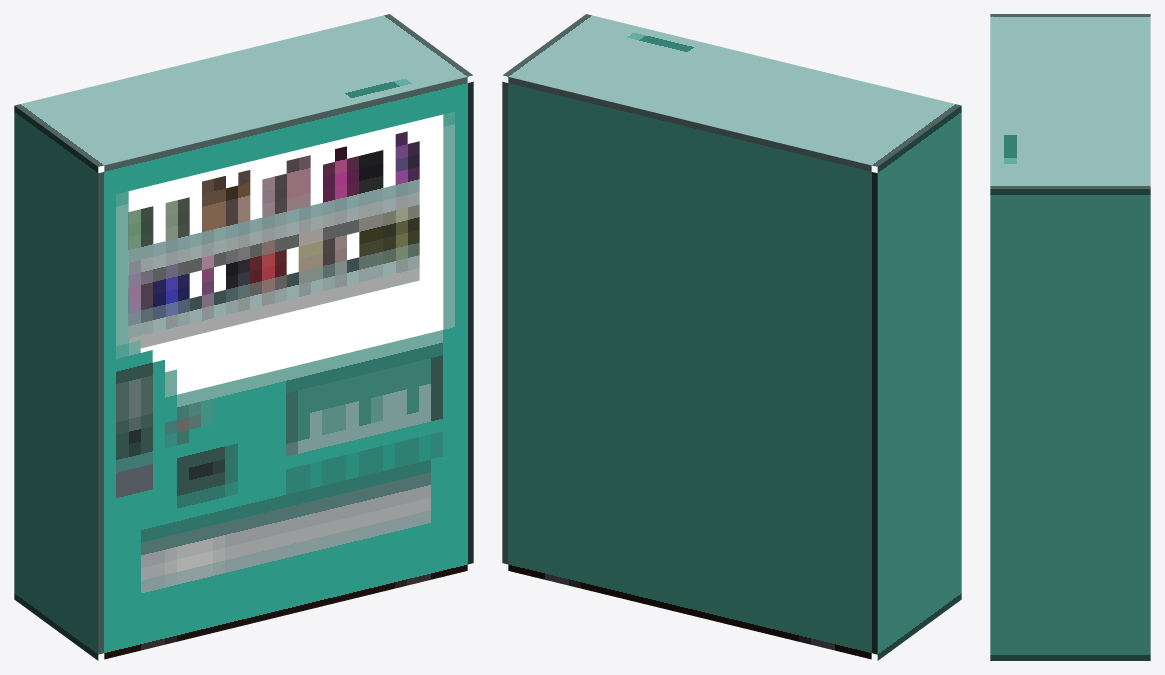
The model's file is Vending_Machine-02.gltf.
3 views of the same model, side by side, from view 1: azimuth 30°, elevation 25°; view 2: azimuth 150°, elevation 25°; view 3: azimuth 270°, elevation 25° (orthographic). The views are drawn at different scales.
Parts seen in each view (by area): view 1: Vending_Machine-02; view 2: Vending_Machine-02; view 3: Vending_Machine-02.
Part boxes in pixels (<box>): Vending_Machine-02: <box>14,14,473,660</box>; Vending_Machine-02: <box>502,14,961,660</box>; Vending_Machine-02: <box>990,14,1150,660</box>.
Size of the model in its own units: 1.55 by 1.95 by 0.6.
Materials: 1 (1 with a texture image).
